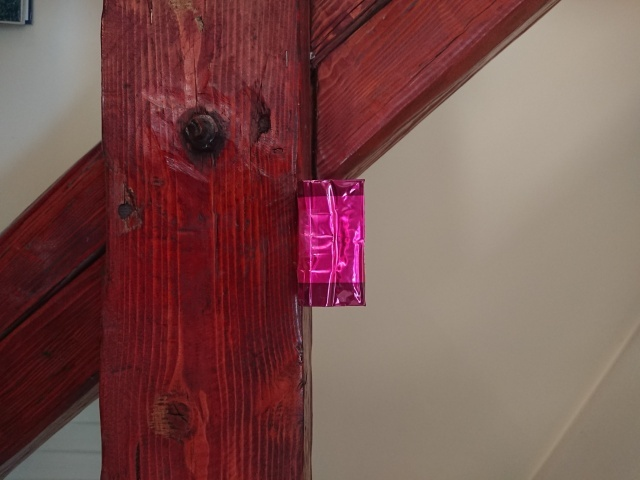Barcaffe Classic Original 225g: (294, 176, 368, 309)
